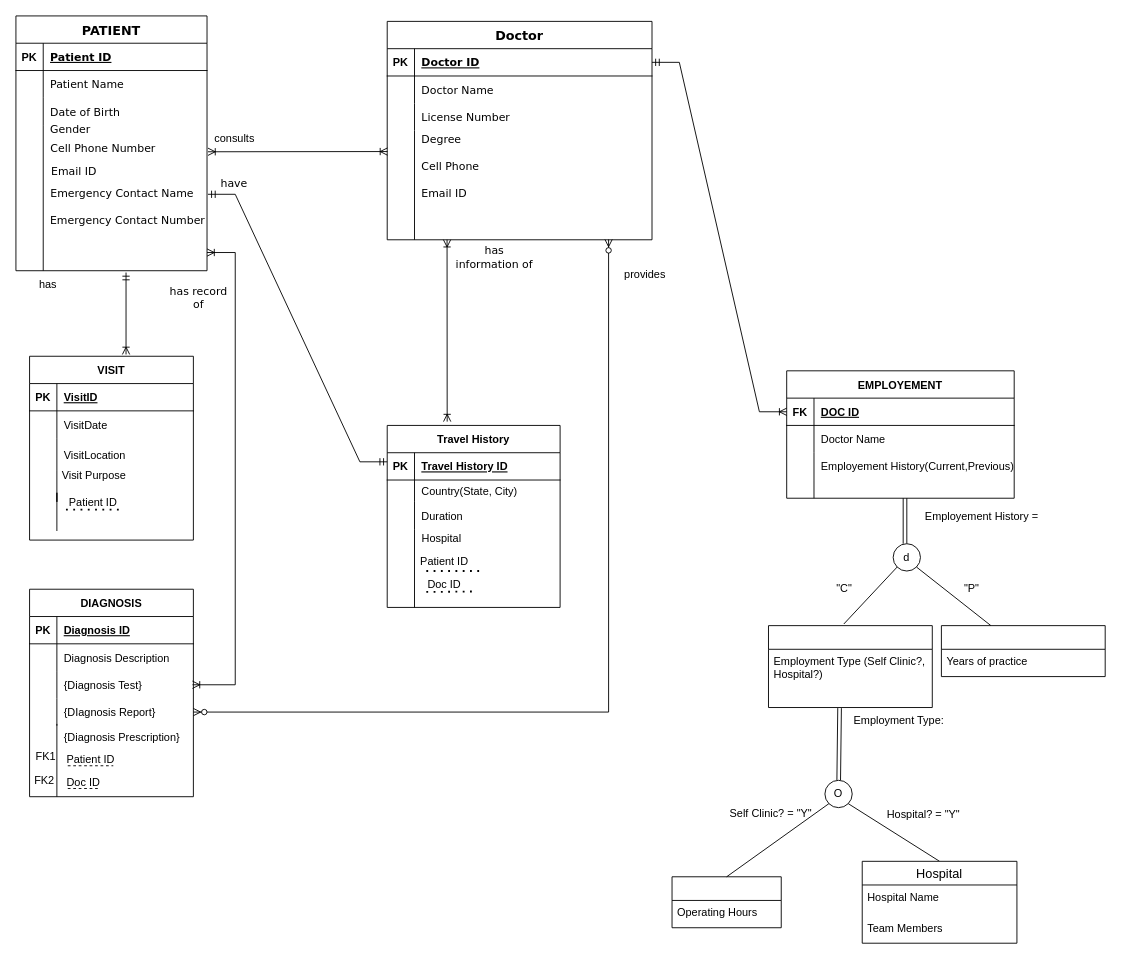
The diagram is 1121 pixels wide and 962 high, and some of its shapes have lost their labels. Here are the shapes that lost their labels. From the top down, the box of each, then its label:
(768, 625, 932, 708): Current
(940, 625, 1105, 677): Previous
(671, 876, 781, 928): Self Clinic
